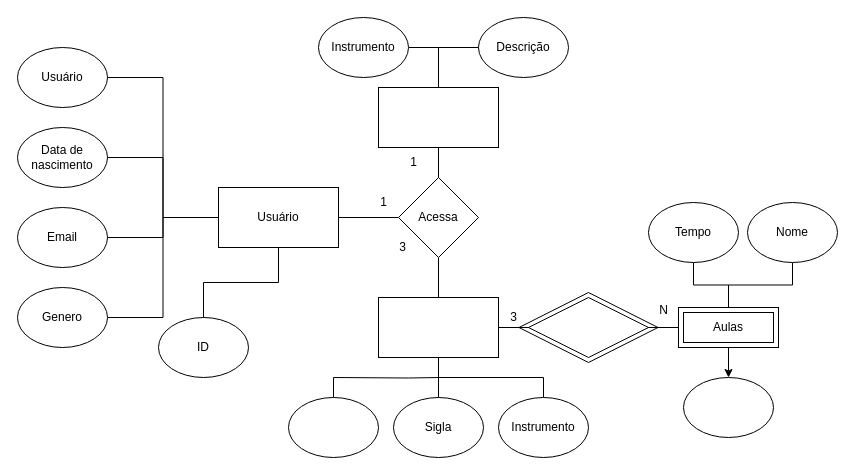
Some shapes in this 855 by 475 pixel diagram are drawn without their labels. The shapes that lost their labels are listed below. From the top down, each one's centre as x and y in pixels, then its label:
[438,117]: Perfil
[438,327]: Módulos
[588,327]: Contém
[333,427]: Professor
[728,407]: Conteúdo
